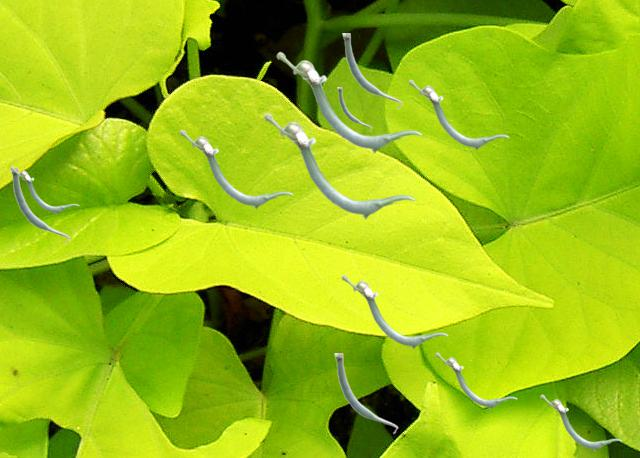french_bean: (263, 112, 414, 218), (276, 51, 421, 152), (179, 129, 292, 208), (341, 274, 447, 348), (408, 79, 508, 149), (334, 353, 397, 433), (540, 394, 621, 450), (435, 352, 516, 408), (342, 33, 401, 108), (10, 168, 69, 243), (10, 166, 78, 213), (337, 87, 371, 130)
